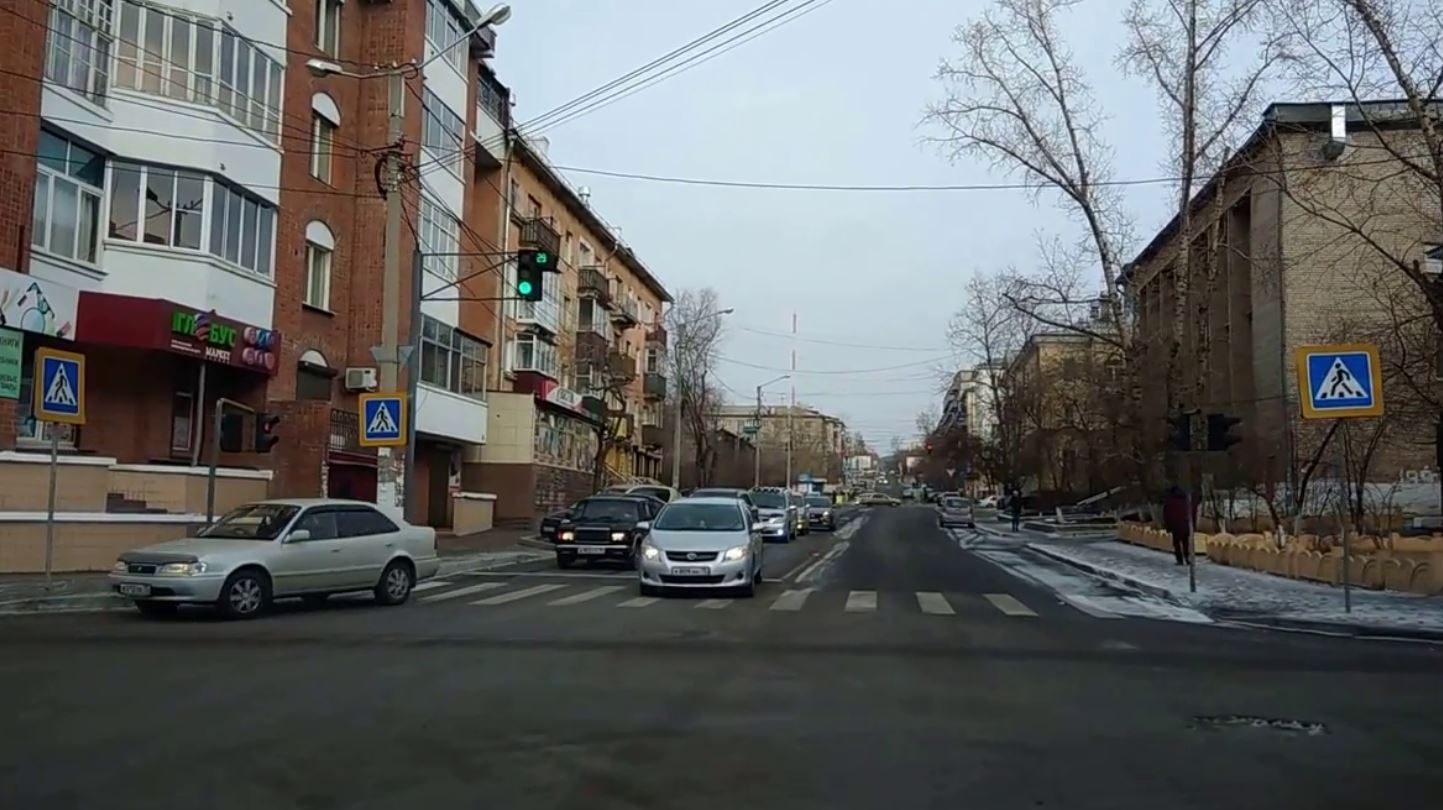Yaya Gecidi: (1304, 347, 1375, 411), (45, 362, 79, 412), (366, 402, 401, 437)
